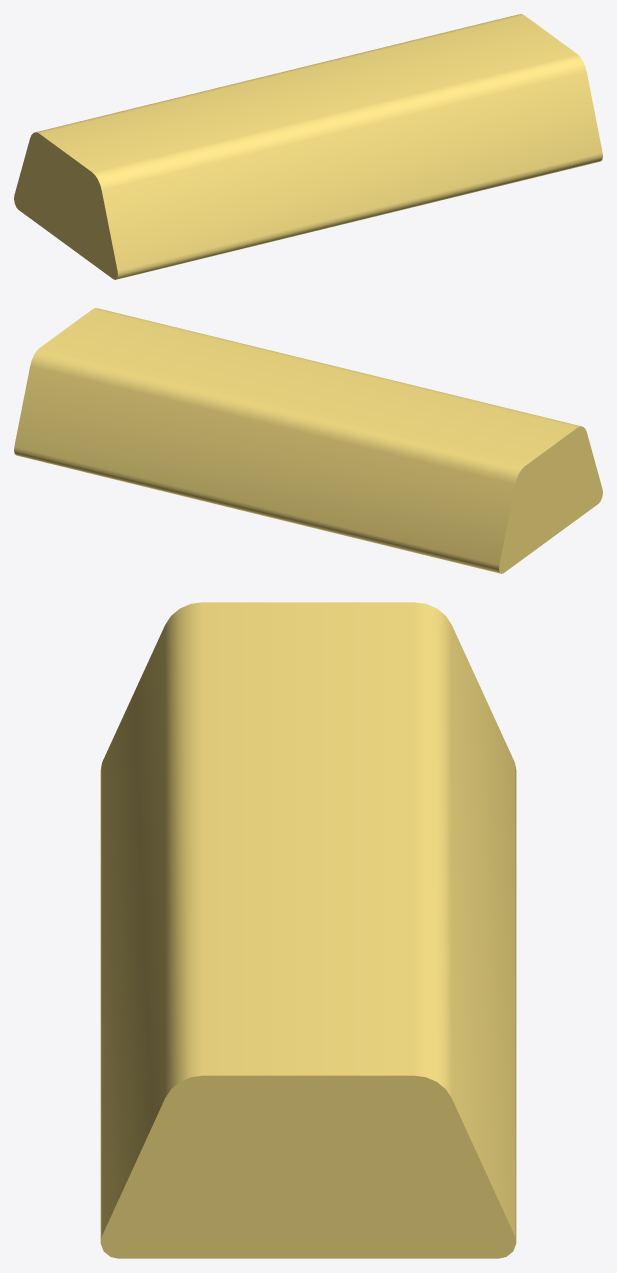
File: Gold.fbx
3 renders of one model, top to bottom at view 1: azimuth 30°, elevation 25°; view 2: azimuth 150°, elevation 25°; view 3: azimuth 270°, elevation 25°, orthographic. The views are drawn at different scales.
Parts seen in each view (by area): view 1: gold; view 2: gold; view 3: gold.
Boxes of the visible parts, <box> form: gold: <box>14,14,602,279</box>; gold: <box>14,308,602,573</box>; gold: <box>100,602,516,1258</box>.
Size of the model in its own units: 106 by 19.13 by 39.39.
